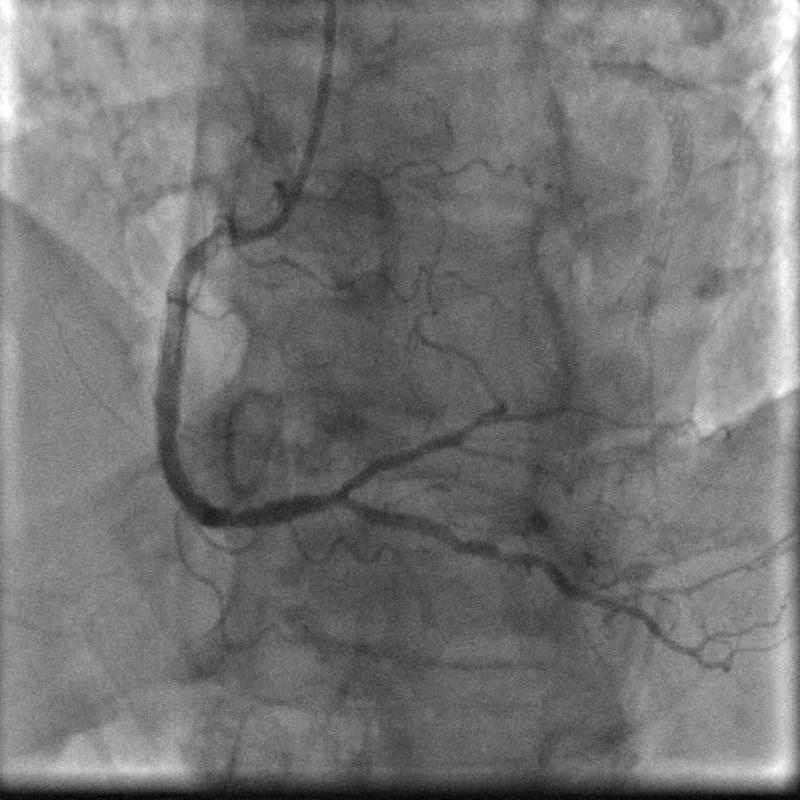Stenosis: (184, 224, 240, 261)
